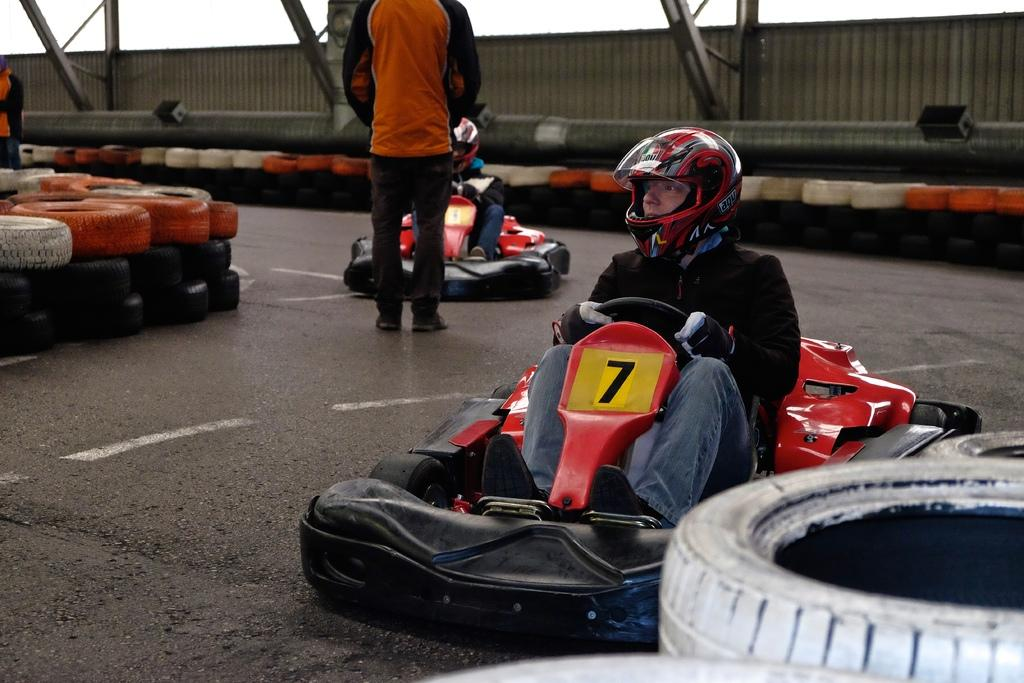helmet: (612, 126, 743, 259), (433, 116, 480, 174)
